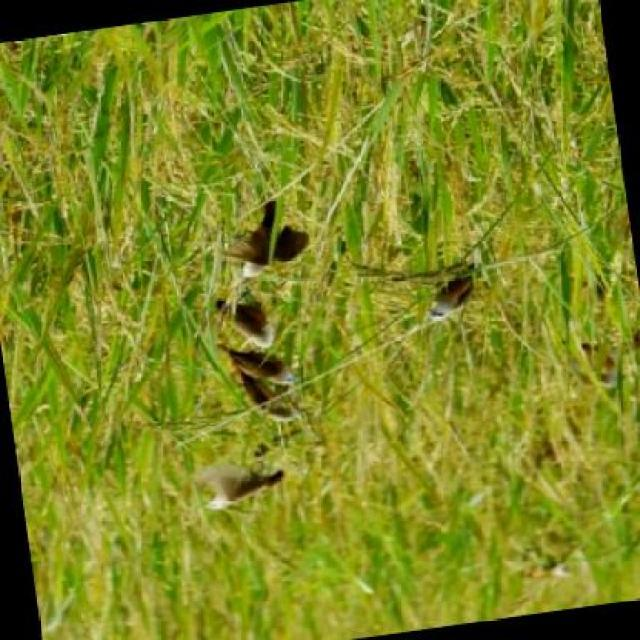Bird: (226, 197, 312, 279), (198, 464, 287, 512), (217, 341, 297, 388), (423, 262, 479, 326), (234, 375, 308, 423), (216, 294, 276, 351)
